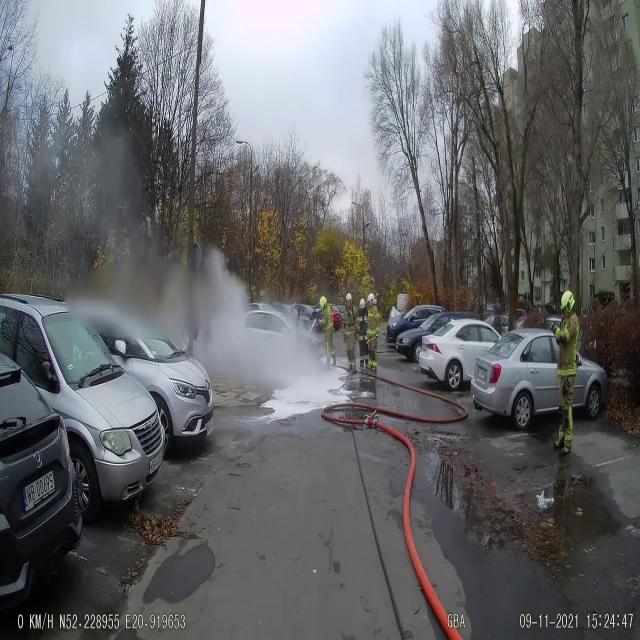Smoke: (81, 109, 323, 389), (182, 241, 332, 406)
